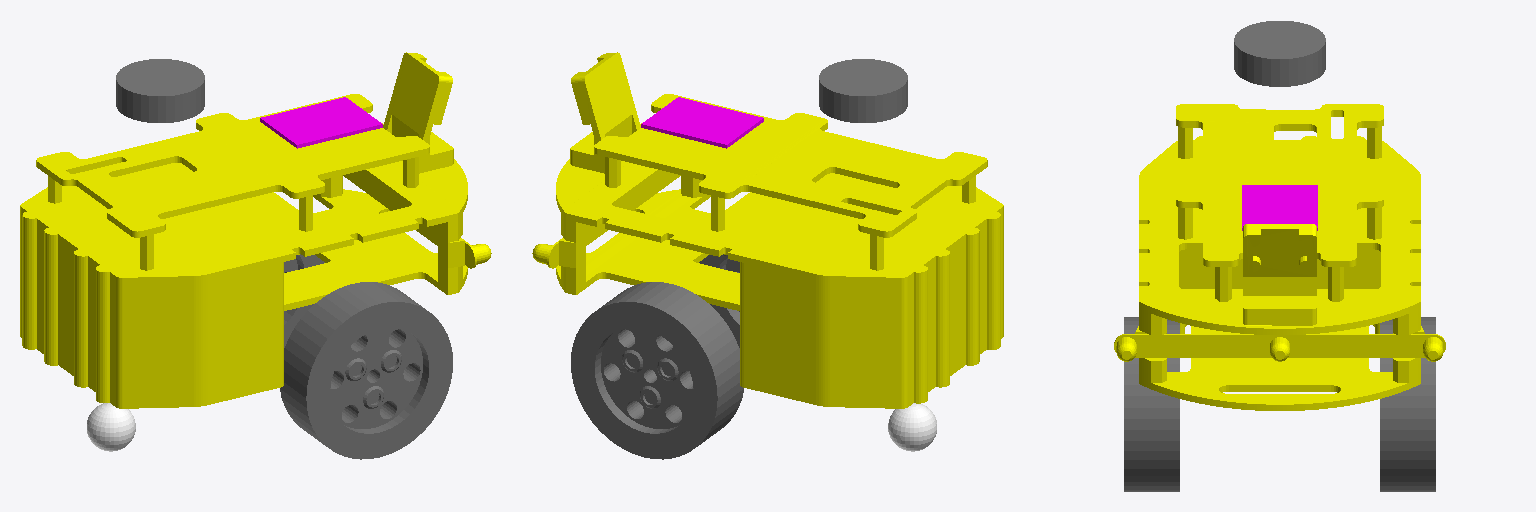
robot.urdf — sorcerer:
<?xml version="1.0" ?>
<robot name="sorcerer" xmlns:xacro="http://ros.org/wiki/xacro">

  <material name="blue">
    <color rgba="0.0 0.0 0.8 1.0"/>
  </material>
  <material name="grey">
    <color rgba="0.5 0.5 0.5 1.0"/>
  </material>
  <material name="red">
    <color rgba="0.8 0.0 0.0 1.0"/>
  </material>
  <material name="purple">
    <color rgba="1.0 0.02 1.0 1.0"/>
  </material>
  <material name="yellow">
    <color rgba="1.0 1.0 0.0 1.0"/>
  </material>
  <material name="white">
    <color rgba="1.0 1.0 1.0 1.0"/>
  </material>

  <link name="base_footprint"/>

  <joint name="base_joint" type="fixed">
    <parent link="base_footprint"/>
    <child link="base_link"/>
    <origin xyz="0.0 0.0 0.03425" rpy="0 0 0"/>
  </joint>
  <link name="base_link">
    <visual>
      <origin xyz="0 0 0.0136" rpy="0 0 0"/>
      <geometry>
        <mesh filename="package://rosrider_description/meshes/sorcerer.stl" scale="0.001 0.001 0.001"/>
      </geometry>
      <material name="yellow"/>
    </visual>
  </link>
  <joint name="wheel_left_joint" type="continuous">
    <parent link="base_link"/>
    <child link="wheel_left_link"/>
    <origin xyz="0.0 0.05 0.0" rpy="-1.57 0 0"/>
    <axis xyz="0 0 1"/>
  </joint>
  <link name="wheel_left_link">
    <visual>
      <origin xyz="0 0 0" rpy="1.57 0 0"/>
      <geometry>
        <mesh filename="package://rosrider_description/meshes/wheel_left.stl" scale="0.001 0.001 0.001"/>
      </geometry>
      <material name="grey"/>
    </visual>
  </link>

  <joint name="wheel_right_joint" type="continuous">
    <parent link="base_link"/>
    <child link="wheel_right_link"/>
    <origin xyz="0.0 -0.05 0.0" rpy="-1.57 0 0"/>
    <axis xyz="0 0 1"/>
  </joint>
  <link name="wheel_right_link">
    <visual>
      <origin xyz="0 0 0" rpy="1.57 0 0"/>
      <geometry>
        <mesh filename="package://rosrider_description/meshes/wheel_right.stl" scale="0.001 0.001 0.001"/>
      </geometry>
      <material name="grey"/>
    </visual>
  </link>

  <joint name="caster_back_joint" type="fixed">
    <parent link="base_link"/>
    <child link="caster_back_link"/>
    <origin xyz="-0.09 0 -0.02425" rpy="0 0 0"/>
  </joint>
  <link name="caster_back_link">
    <visual>
      <geometry>
        <sphere radius="0.01"/>
      </geometry>
      <material name="white"/>
    </visual>
  </link>

  <joint name="imu_joint" type="fixed">
    <parent link="base_link"/>
    <child link="imu_link"/>
    <origin xyz="0.008 0 0.0884" rpy="0 0 0"/>
  </joint>
  <link name="imu_link">
    <visual>
      <origin xyz="0 0 0" rpy="0 0 0"/>
      <geometry>
        <box size="0.04 0.03 0.0016"/>
      </geometry>
      <material name="purple"/>
    </visual>
  </link>

  <joint name="scan_joint" type="fixed">
    <parent link="base_link"/>
    <child link="base_scan"/>
    <origin xyz="-0.067 0 0.12" rpy="0 0 0"/>
  </joint>
  <link name="base_scan">
    <visual>
      <origin xyz="0 0 0" rpy="0 0 0"/>
      <geometry>
        <cylinder length="0.012" radius="0.018"/>
      </geometry>
      <material name="grey"/>
    </visual>
  </link>

</robot>

--- What the picture shows (computed from the rendered views, not written in the file) ---
Views: 3 orthographic renders of the robot side by side, from view 1: azimuth 30°, elevation 25°; view 2: azimuth 150°, elevation 25°; view 3: azimuth 270°, elevation 25°.
Model sorcerer with 7 links and 6 joints (2 continuous, 4 fixed), rooted at base_footprint, posed all joints at 0.
Visible links, largest first — view 1: base_link, wheel_right_link, base_scan, imu_link, caster_back_link, wheel_left_link; view 2: base_link, wheel_left_link, base_scan, imu_link, caster_back_link, wheel_right_link; view 3: base_link, wheel_left_link, wheel_right_link, base_scan, imu_link.
Boxes of the visible links, x1,y1,x2,y2 form: base_link: (20,52,491,408); wheel_right_link: (280,282,452,459); base_scan: (116,59,204,122); imu_link: (260,97,382,148); caster_back_link: (87,403,135,451); wheel_left_link: (284,254,324,347); base_link: (532,52,1003,408); wheel_left_link: (571,282,743,459); base_scan: (819,59,907,122); imu_link: (641,97,763,148); caster_back_link: (888,403,936,451); wheel_right_link: (699,254,739,347); base_link: (1114,104,1445,410); wheel_left_link: (1380,317,1435,491); wheel_right_link: (1124,317,1179,491); base_scan: (1234,21,1325,86); imu_link: (1242,185,1317,230).
Size in the robot's own frame: 0.1788 by 0.13 by 0.1602 metres.
3 mesh visuals loaded from 3 distinct referenced files (3 binary STL).